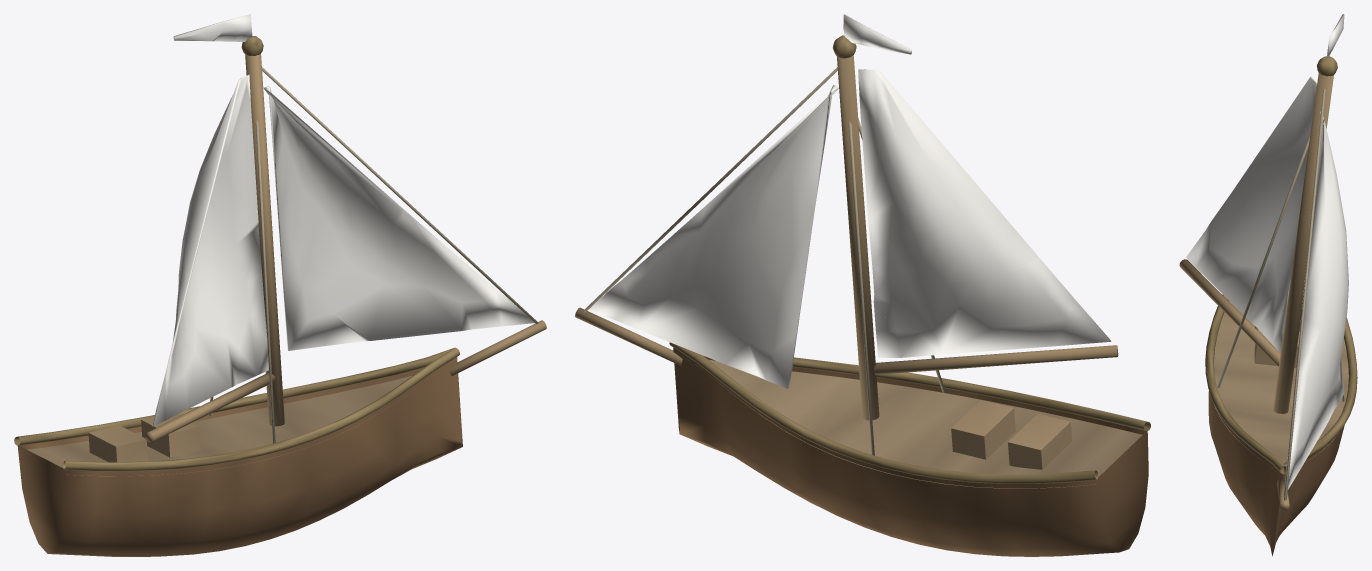
Rendered from live_sloop.glb.
The picture shows the model from 3 angles, left to right: view 1: azimuth 30°, elevation 25°; view 2: azimuth 150°, elevation 25°; view 3: azimuth 270°, elevation 25°; orthographic projection. The views are drawn at different scales.
Visible parts, largest first — view 1: SeaPropDetails, SailCloth; view 2: SeaPropDetails, SailCloth; view 3: SailCloth, SeaPropDetails.
Part boxes in pixels (x1,y1,x2,y2): SeaPropDetails: [14, 36, 546, 556]; SailCloth: [152, 14, 534, 426]; SeaPropDetails: [575, 35, 1150, 556]; SailCloth: [589, 14, 1111, 388]; SailCloth: [1186, 14, 1348, 496]; SeaPropDetails: [1179, 56, 1357, 556].
Bounding box in the file's own units: 1.16 × 1.08 × 0.368.
